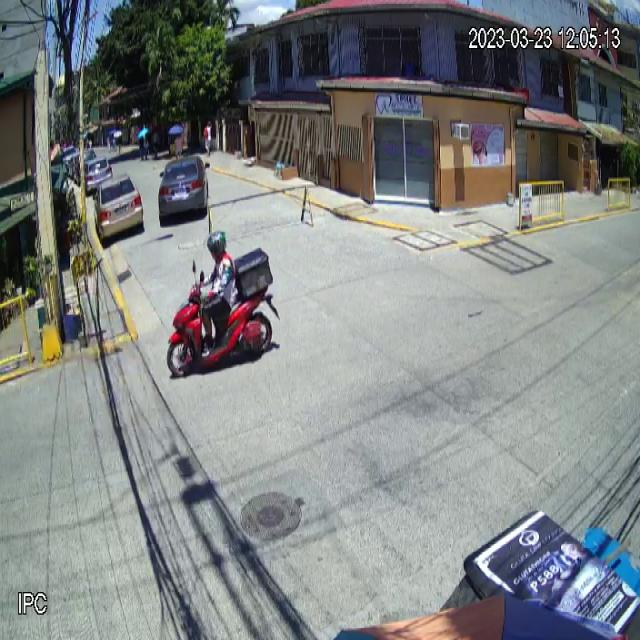Car: (156, 154, 210, 229)
Motorcycle: (165, 244, 278, 378)
